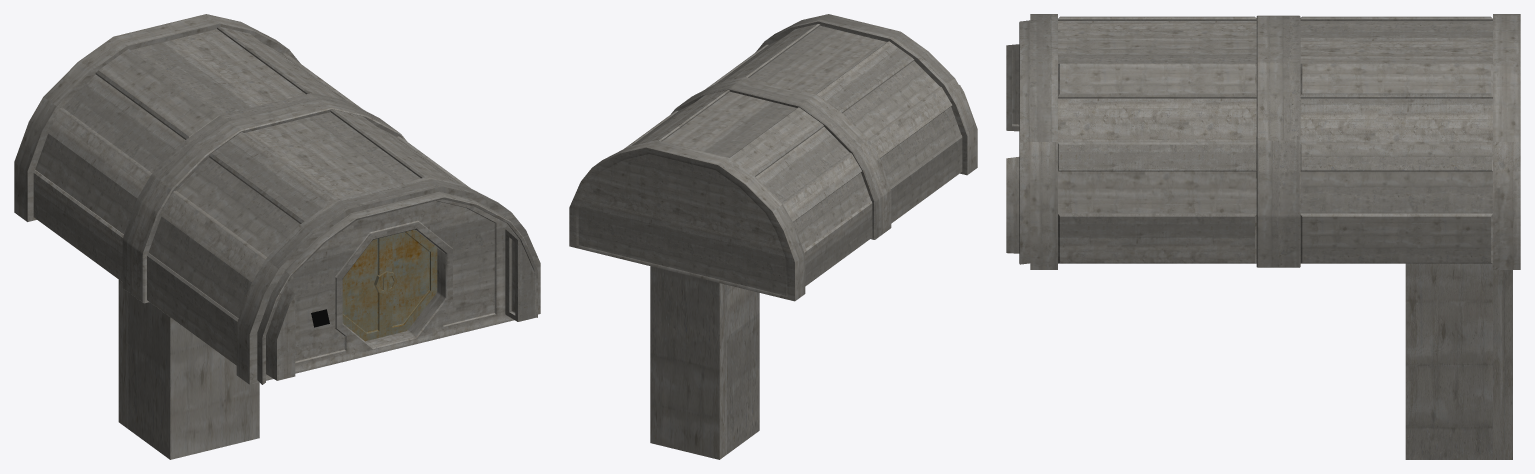
File: bunker.fbx
The picture shows the model from 3 angles, left to right: view 1: azimuth 30°, elevation 25°; view 2: azimuth 150°, elevation 25°; view 3: azimuth 270°, elevation 25°; orthographic projection. The views are drawn at different scales.
Parts seen in each view (by area): view 1: Bunker, R.BunkerDoor, L.BunkerDoor; view 2: Bunker; view 3: Bunker.
Part boxes in pixels (x1,y1,x2,y2): Bunker: (14, 14, 540, 459); R.BunkerDoor: (386, 229, 437, 335); L.BunkerDoor: (342, 236, 386, 341); Bunker: (569, 14, 977, 459); Bunker: (1006, 14, 1520, 459).
Bounding box in the file's own units: 1304 × 1643 × 1918.
Materials: 3 (2 with a texture image).
